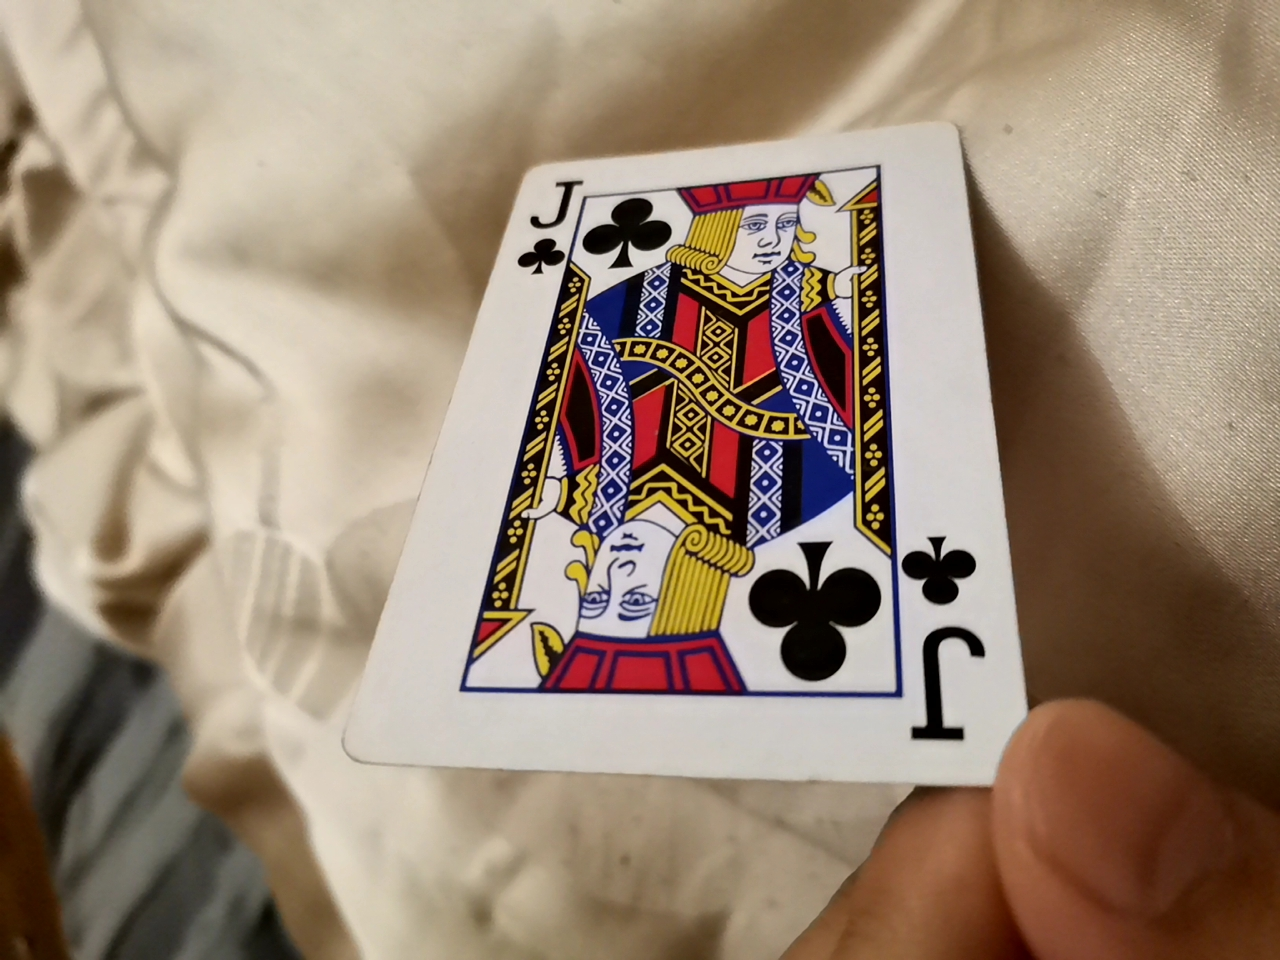mh j: (366, 131, 1026, 796)
